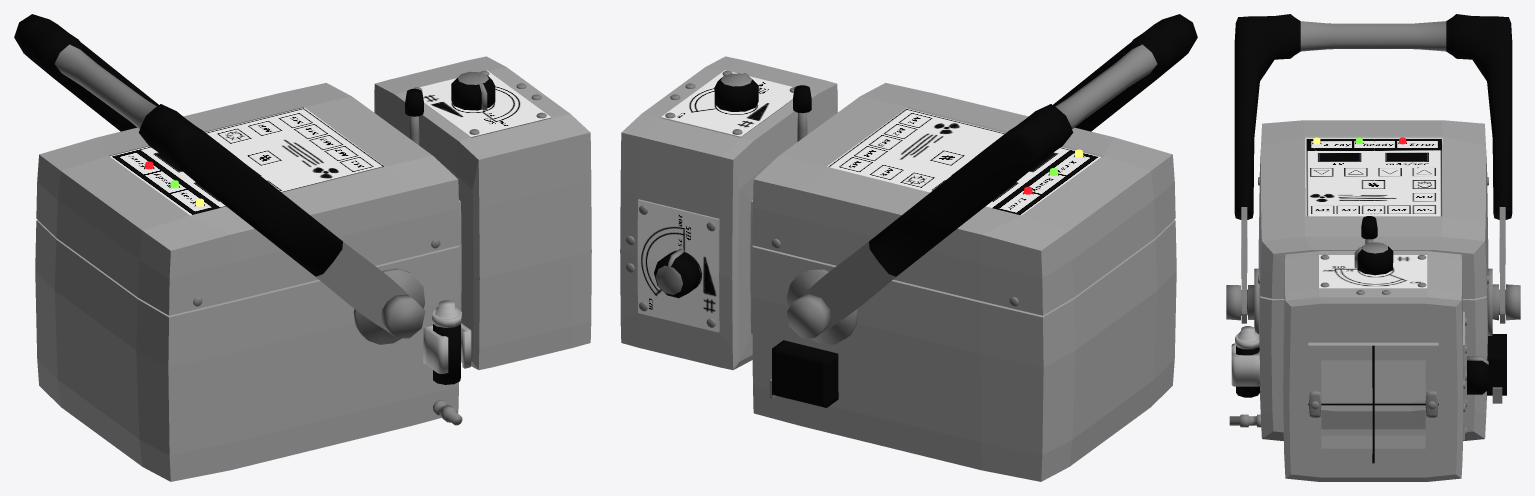
File: VetRadioScanner.glb
3 renders of one model, left to right at view 1: azimuth 30°, elevation 25°; view 2: azimuth 150°, elevation 25°; view 3: azimuth 270°, elevation 25°, orthographic. The views are drawn at different scales.
Parts seen in each view (by area): view 1: Scanner, ExposureButton, Knob_X; view 2: Scanner, Knob_Y, Knob_X; view 3: Scanner, Knob_X, ExposureButton, Knob_Y.
Part boxes in pixels (left/top/right/bottom): Scanner: left=14, top=14, right=591, bottom=481; ExposureButton: left=432, top=300, right=461, bottom=384; Knob_X: left=451, top=71, right=495, bottom=110; Scanner: left=620, top=14, right=1197, bottom=481; Knob_Y: left=654, top=248, right=701, bottom=298; Knob_X: left=714, top=73, right=758, bottom=111; Scanner: left=1226, top=14, right=1520, bottom=481; Knob_X: left=1354, top=242, right=1393, bottom=275; ExposureButton: left=1235, top=326, right=1260, bottom=397; Knob_Y: left=1467, top=356, right=1488, bottom=394.
Bounding box in the file's own units: 0.3711 × 0.2917 × 0.2414.
Materials: 8 (1 with a texture image).
